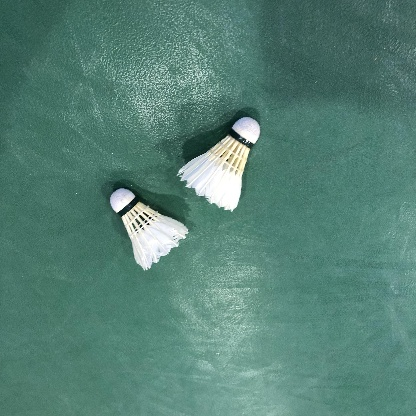ball_single: (176, 117, 260, 212), (110, 188, 189, 271)
